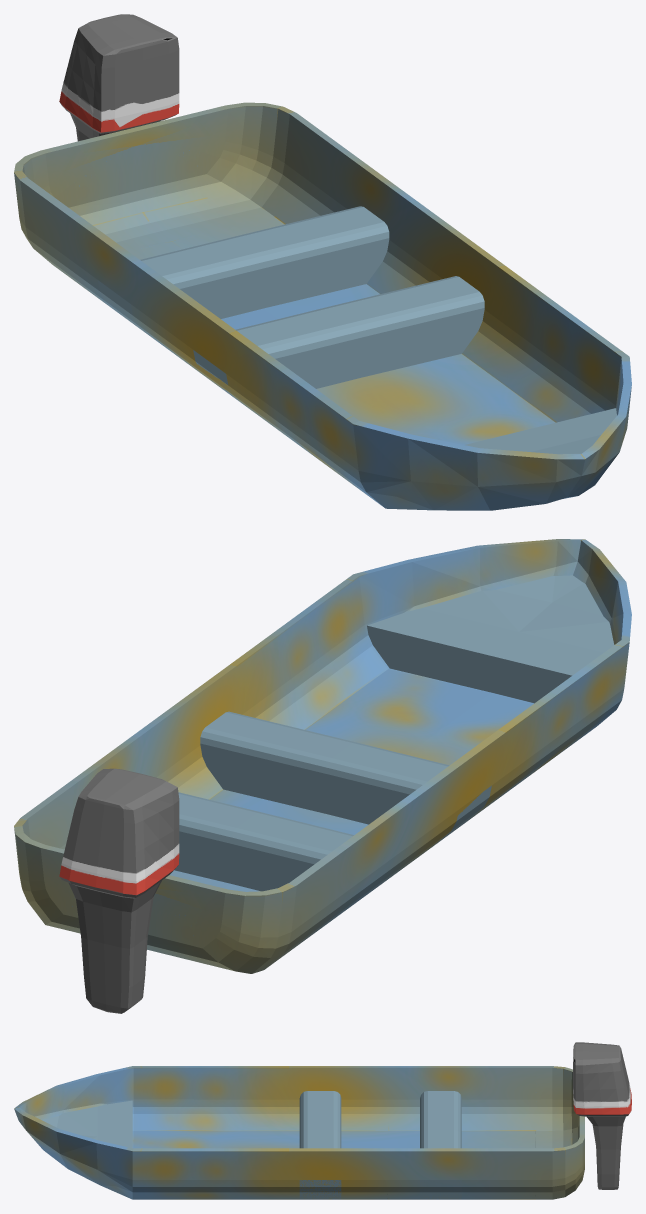
File: Lancha.fbx
3 views of the same model, one above another, from view 1: azimuth 30°, elevation 25°; view 2: azimuth 150°, elevation 25°; view 3: azimuth 270°, elevation 25° (orthographic). The views are drawn at different scales.
Parts seen in each view (by area): view 1: Lancha, Asiento1, Asiento0, MotorLancha, FrontalLancha; view 2: Lancha, FrontalLancha, MotorLancha, Asiento0, Asiento1; view 3: Lancha, MotorLancha, Asiento0, Asiento1, FrontalLancha.
Boxes of the visible parts, x1,y1,x2,y2 form: Lancha: (14,102,631,510); Asiento1: (98,206,389,339); Asiento0: (193,276,484,403); MotorLancha: (59,14,179,141); FrontalLancha: (465,408,616,454); Lancha: (14,539,631,973); FrontalLancha: (367,575,614,703); MotorLancha: (59,768,179,1013); Asiento0: (200,711,491,845); Asiento1: (174,792,353,891); Lancha: (14,1066,584,1199); MotorLancha: (573,1042,631,1189); Asiento0: (299,1091,341,1199); Asiento1: (420,1091,461,1199); FrontalLancha: (42,1100,132,1147).
Size of the model in its own units: 2.62 by 1.93 by 8.02.
